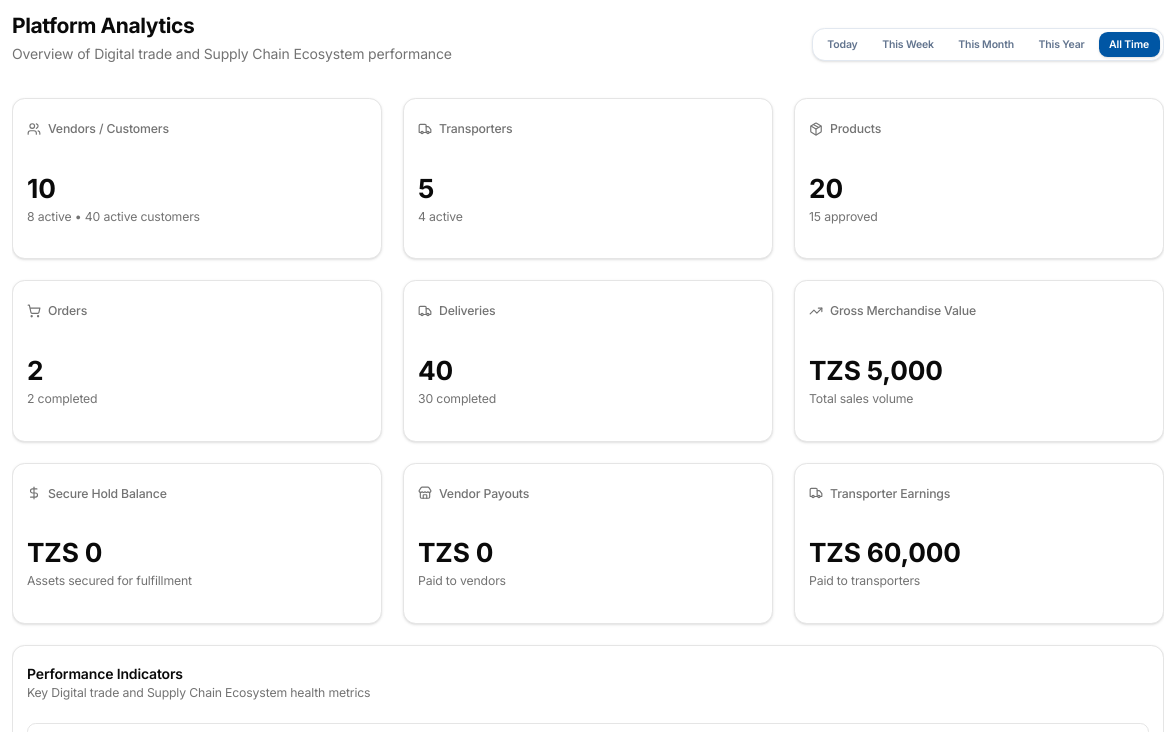
Test case: AnalyticsTab › narrows the filtered figures when a date-range button is clicked
expect the text "2" is shown: met, box [27,355,43,386]
expect the text "TZS 5,000" is shown: met, box [809,355,943,386]
Step 1. Click the button "Today" → coordinates (842, 45), box [817,32,868,57]
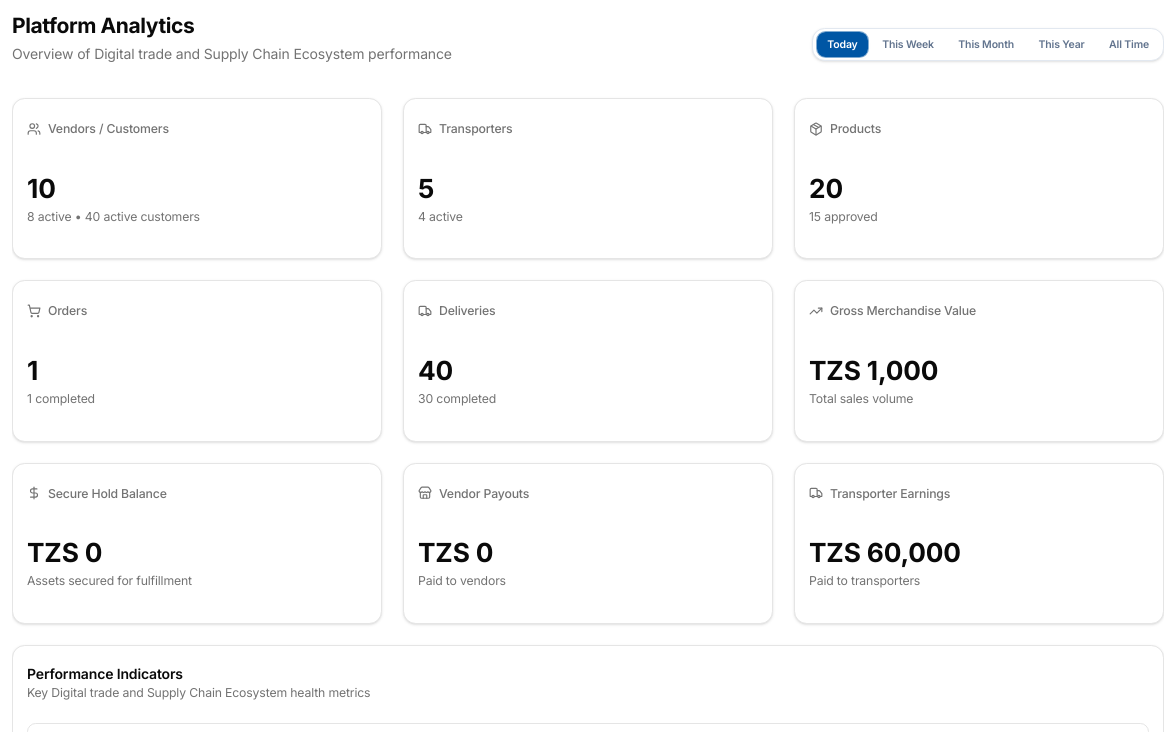
expect the text "1" is shown: met, box [27,355,38,386]
expect the text "TZS 1,000" is shown: met, box [809,355,938,386]
expect the text "TZS 5,000" is gone: met
